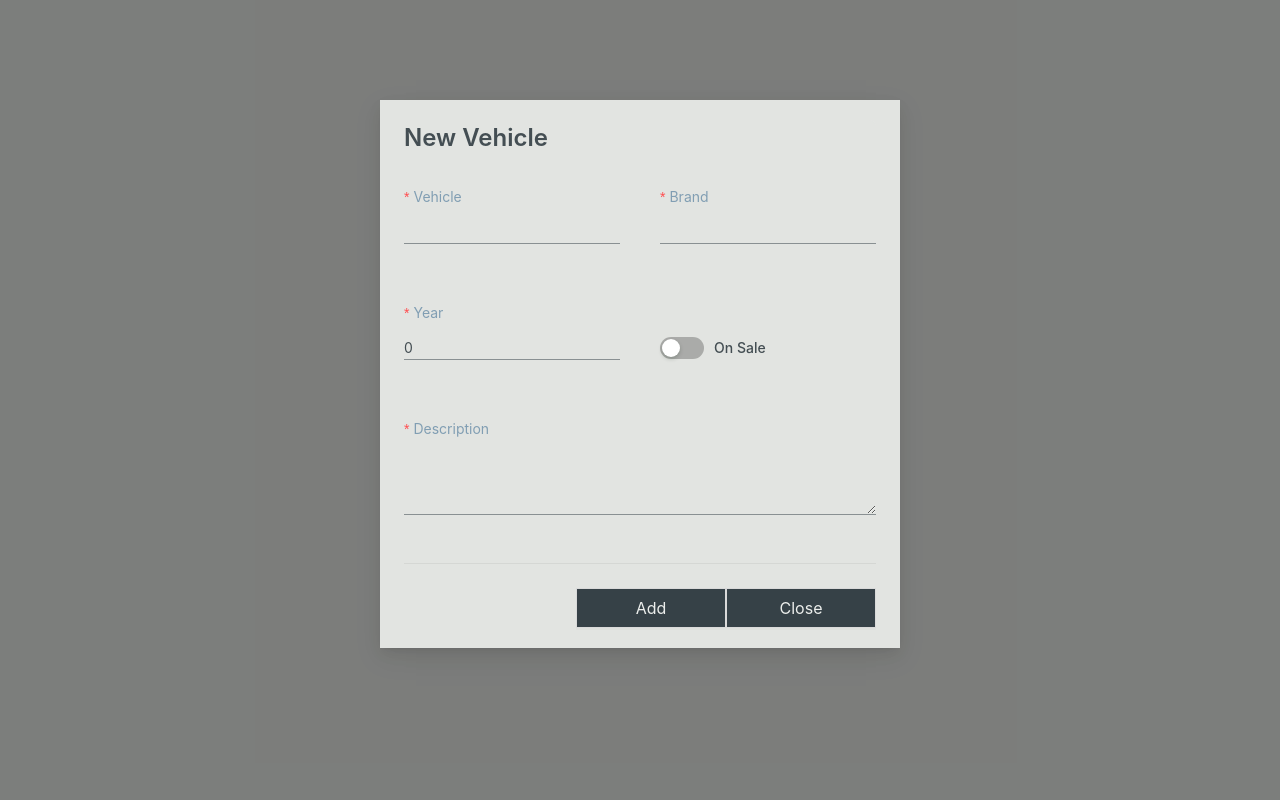
Modal › should post form data
Type "Fusca" into the field labelled "Vehicle" at (512, 232), box [404, 220, 620, 244]
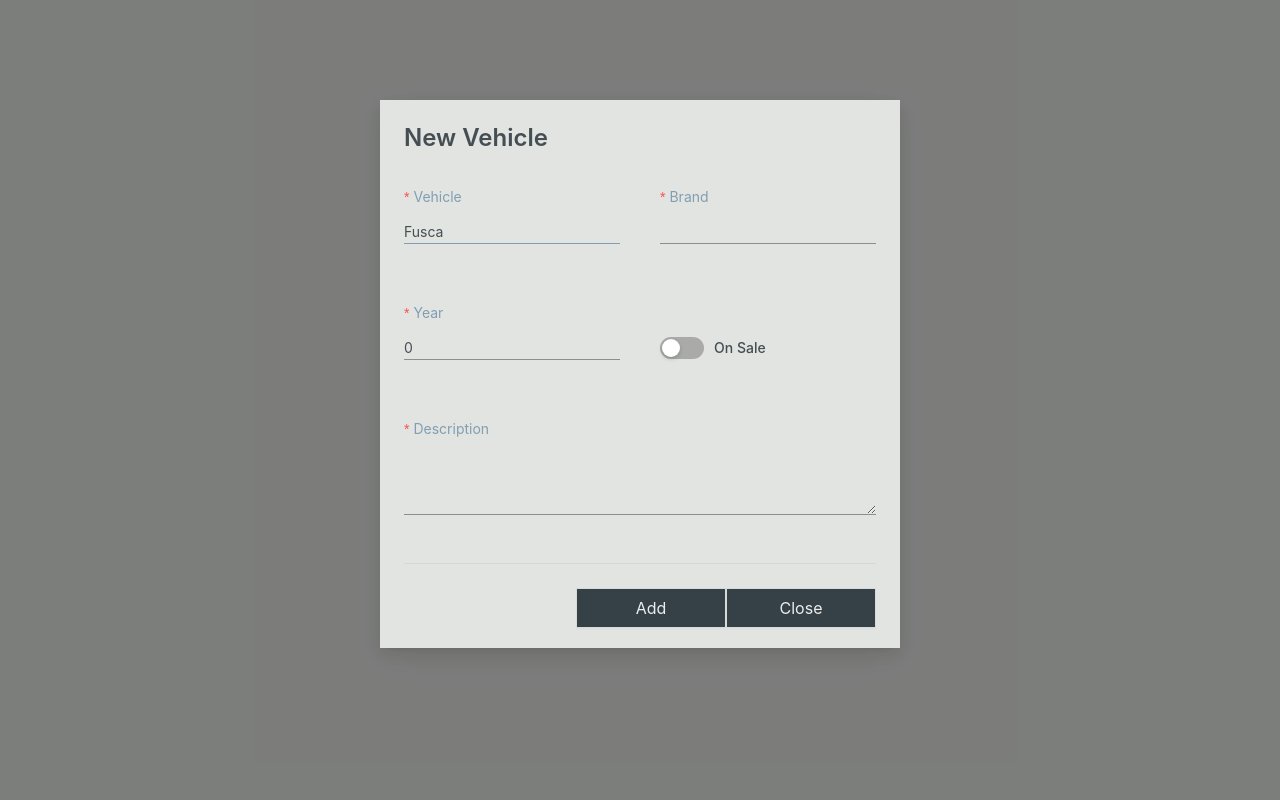
Type "Volks" into the field labelled "Brand" at (768, 232), box [660, 220, 876, 244]
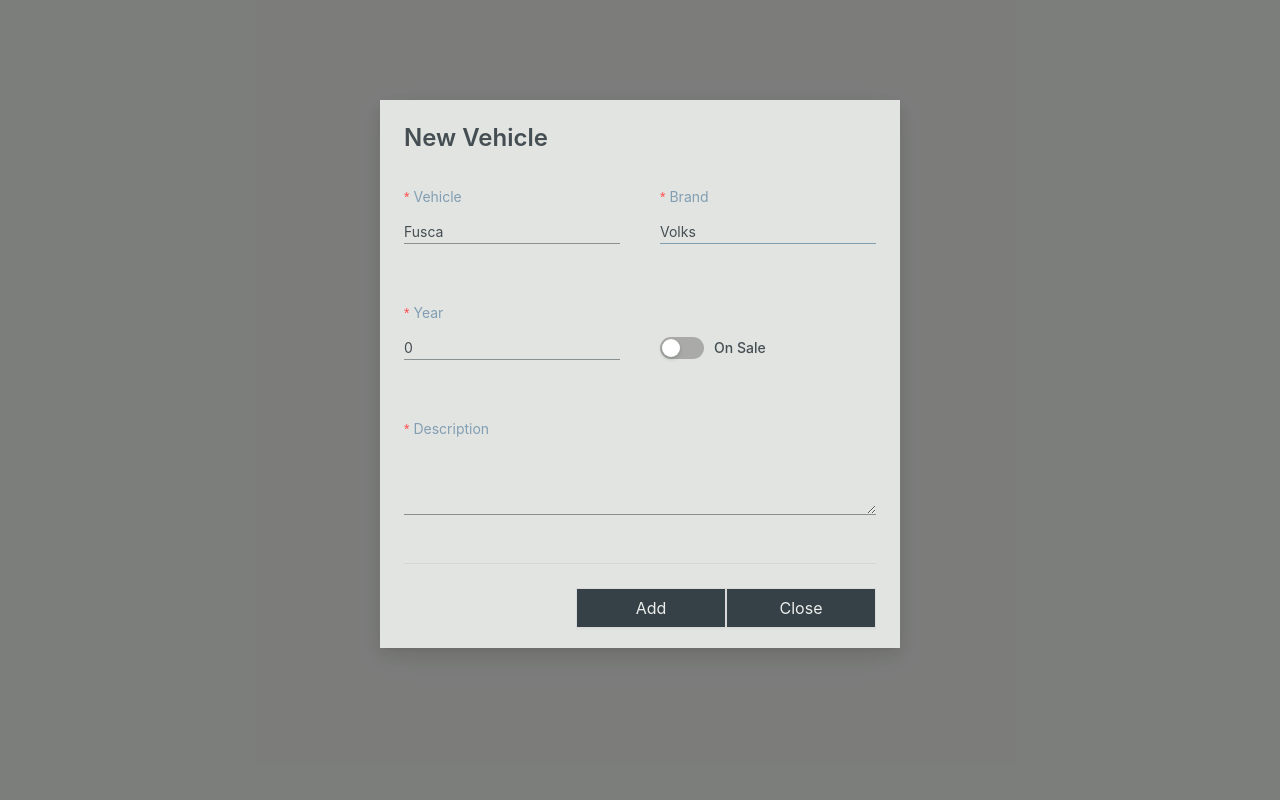
Type "1950" into the number field labelled "Year" at (512, 348), box [404, 336, 620, 360]
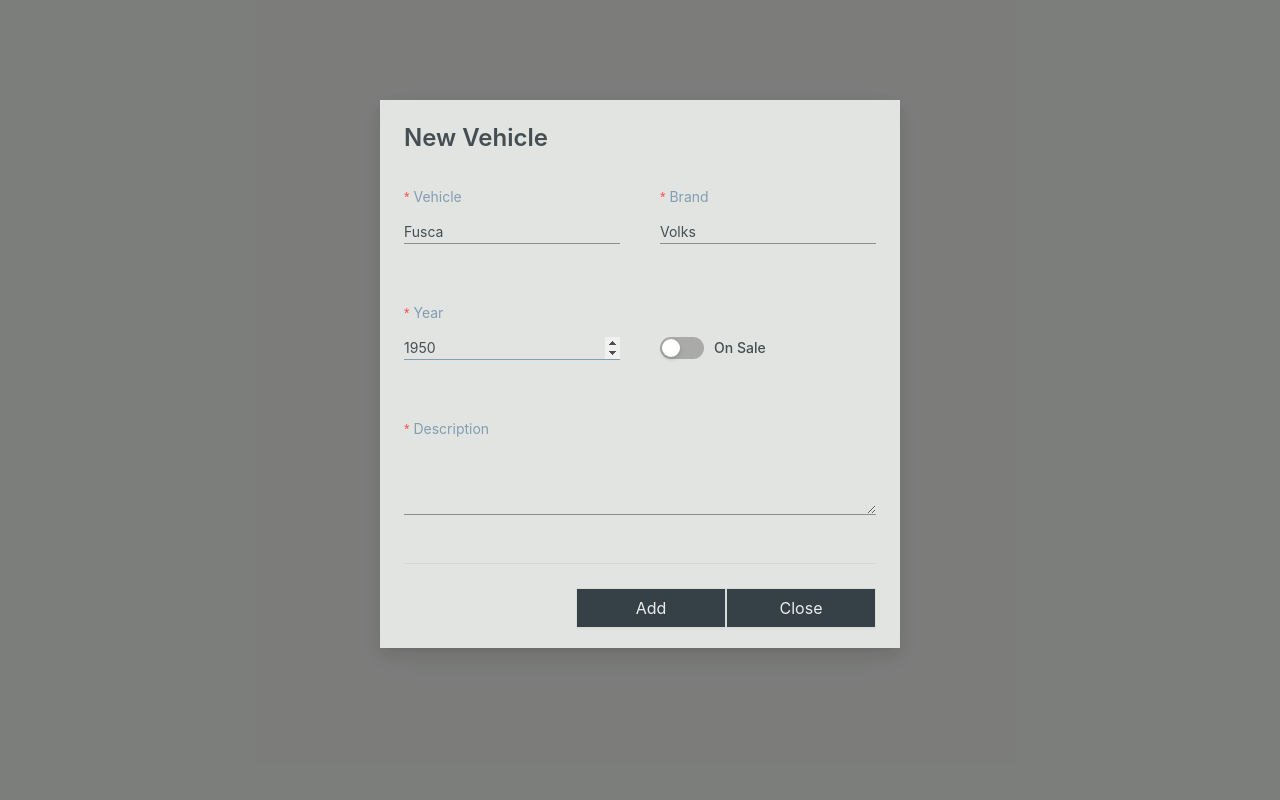
Type "A nice car" into the text box labelled "Description" at (640, 482), box [404, 448, 876, 515]
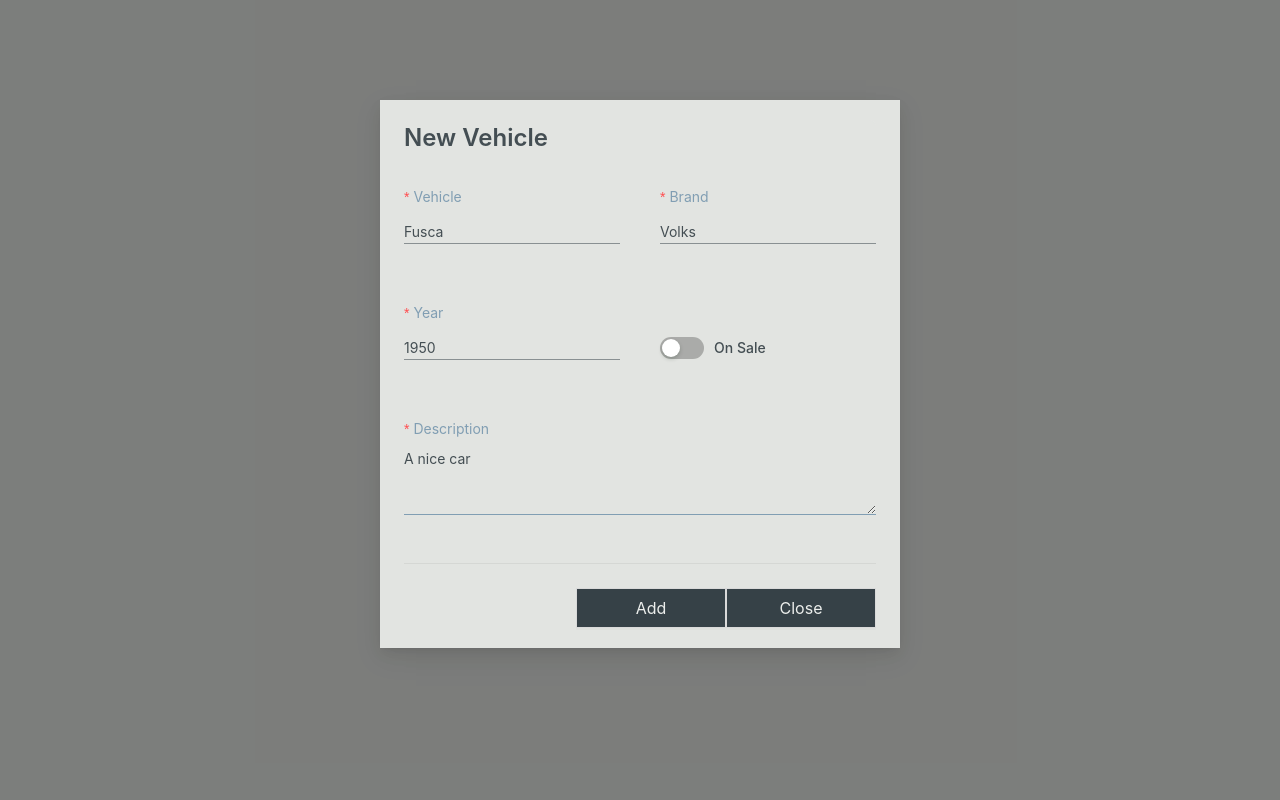
Click the button "Add" at (651, 608), box [576, 588, 726, 628]
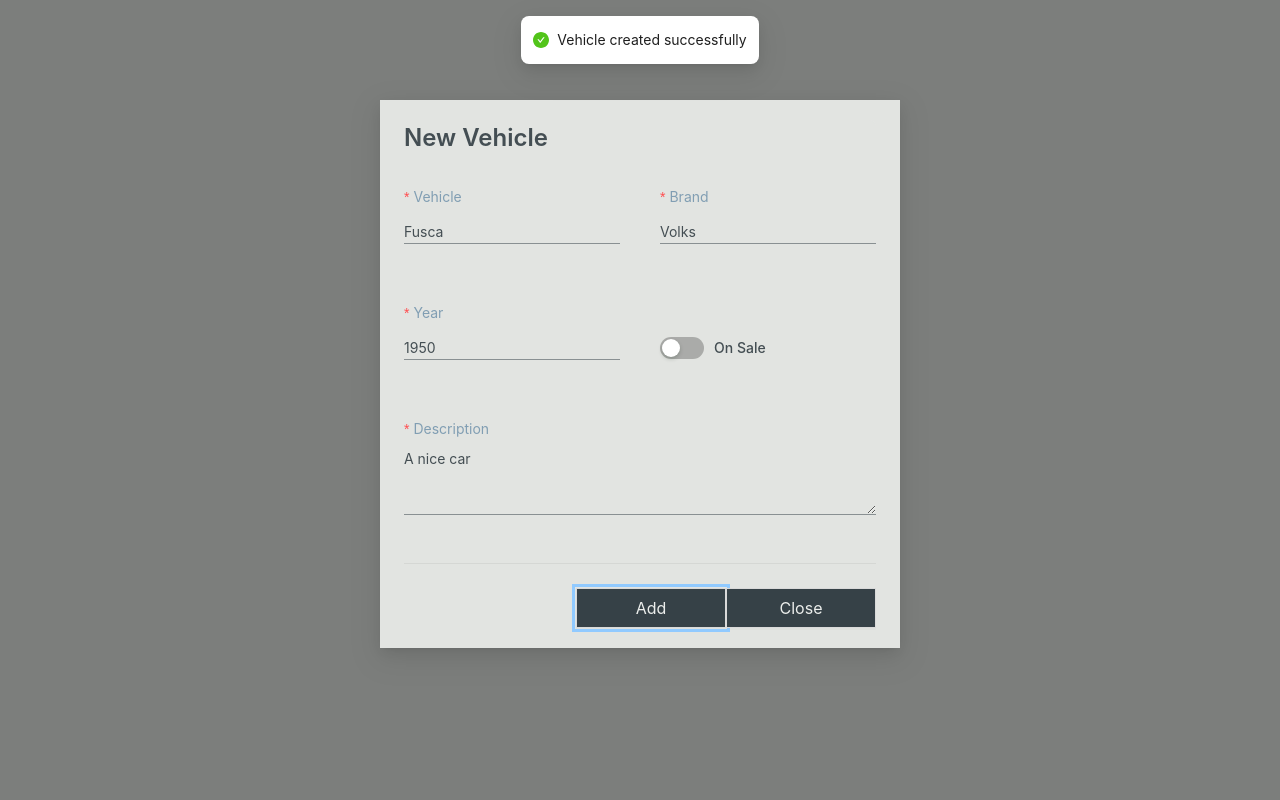
Check: the text "Vehicle created successfully" is shown, box [557, 29, 747, 51]
